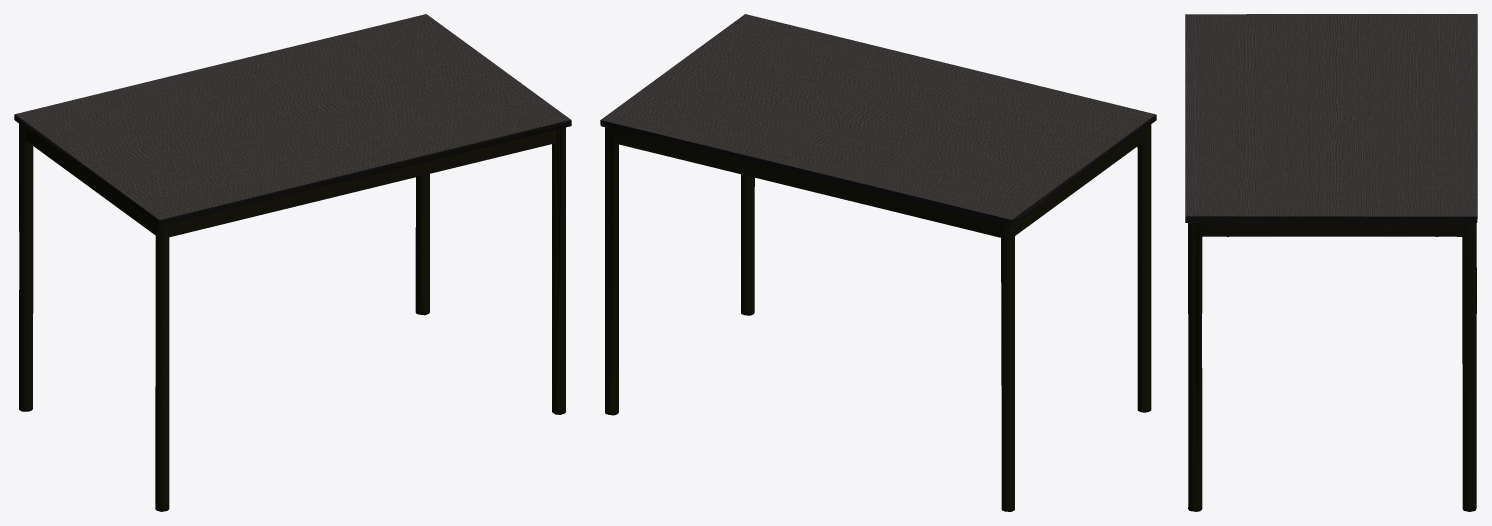
3 renders of one model, left to right at view 1: azimuth 30°, elevation 25°; view 2: azimuth 150°, elevation 25°; view 3: azimuth 270°, elevation 25°, orthographic.
Parts seen in each view (by area): view 1: ProcessedMeshNode; view 2: ProcessedMeshNode; view 3: ProcessedMeshNode.
Boxes of the visible parts, x1,y1,x2,y2 form: ProcessedMeshNode: (14,14,571,511); ProcessedMeshNode: (600,14,1156,511); ProcessedMeshNode: (1185,14,1477,511).
Size of the model in its own units: 1.1 by 0.7512 by 0.6716.
Materials: 1 (1 with a texture image).
